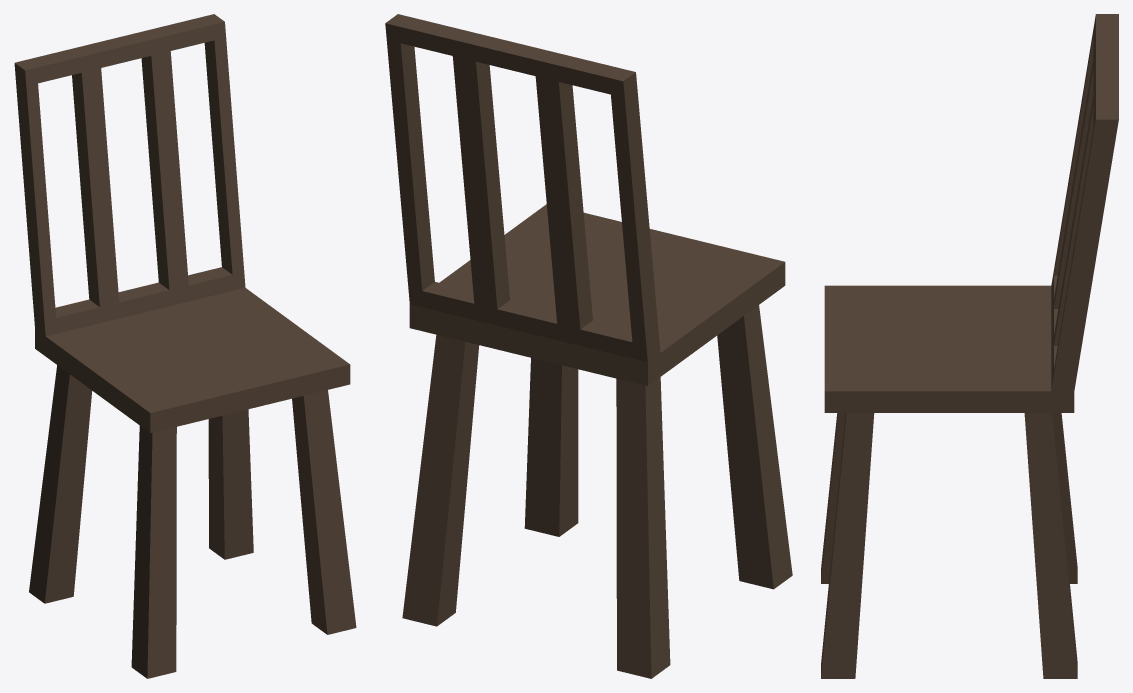
The model's file is chair.fbx.
3 views of the same model, side by side, from view 1: azimuth 30°, elevation 25°; view 2: azimuth 150°, elevation 25°; view 3: azimuth 270°, elevation 25° (orthographic). The views are drawn at different scales.
Parts seen in each view (by area): view 1: chair; view 2: chair; view 3: chair.
Part boxes in pixels (x1,y1,x2,y2): chair: (14,14,356,678); chair: (385,14,792,678); chair: (821,14,1118,678).
Size of the model in its own units: 0.5509 by 0.6278 by 1.3.
